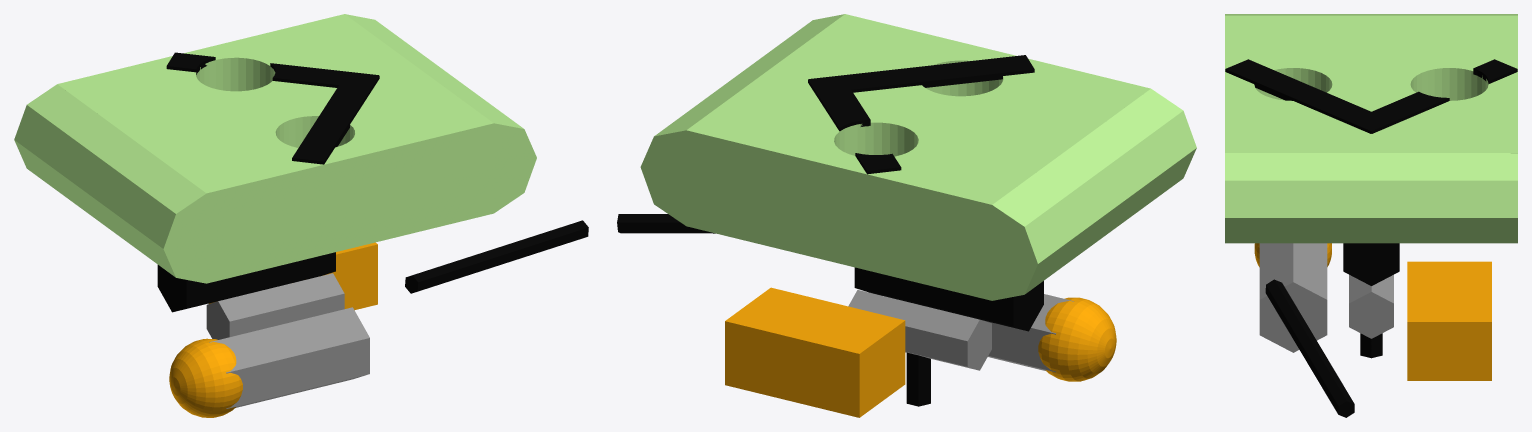
File: seabotix_no_props.dae
The picture shows the model from 3 angles, left to right: view 1: azimuth 30°, elevation 25°; view 2: azimuth 150°, elevation 25°; view 3: azimuth 270°, elevation 25°; orthographic projection. The views are drawn at different scales.
Visible parts, largest first — view 1: base_link, rear_bumper, dvl, front_bumper, greensea, dvl_head, seabotix_bottle, gripper_pole, r_arrow, l_arrow, sonar; view 2: base_link, rear_bumper, sonar, front_bumper, greensea, dvl_head, seabotix_bottle, r_arrow, l_arrow, dvl, gripper_pole, sa_thruster; view 3: base_link, front_bumper, sonar, dvl, gripper_pole, r_arrow, greensea, l_arrow, seabotix_bottle, rear_bumper, sf_thruster.
Boxes of the visible parts, x1,y1,x2,y2 form: base_link: (57,14,493,283); rear_bumper: (14,84,249,283); dvl: (209,307,369,408); front_bumper: (345,14,536,213); greensea: (206,273,344,339); dvl_head: (169,338,242,417); seabotix_bottle: (157,252,335,312); gripper_pole: (405,220,588,293); r_arrow: (292,75,379,164); l_arrow: (166,52,378,88); sonar: (209,242,377,310); base_link: (686,14,1150,300); rear_bumper: (947,89,1196,300); sonar: (725,287,905,417); front_bumper: (640,14,844,225); greensea: (848,290,991,370); dvl_head: (1038,297,1116,381); seabotix_bottle: (854,267,1043,331); r_arrow: (809,55,1034,92); l_arrow: (808,75,901,174); dvl: (982,294,1073,372); gripper_pole: (617,214,715,233); sa_thruster: (906,352,930,406); base_link: (1225,15,1517,153); front_bumper: (1225,153,1517,243); sonar: (1407,261,1491,380); dvl: (1259,243,1327,352); gripper_pole: (1265,279,1354,417); r_arrow: (1225,59,1371,133); greensea: (1349,274,1393,338); l_arrow: (1349,59,1517,133); seabotix_bottle: (1343,243,1399,285); rear_bumper: (1225,14,1517,15); sf_thruster: (1360,333,1382,357).
Bounding box in the file's own units: 0.8408 × 0.45 × 0.46.
